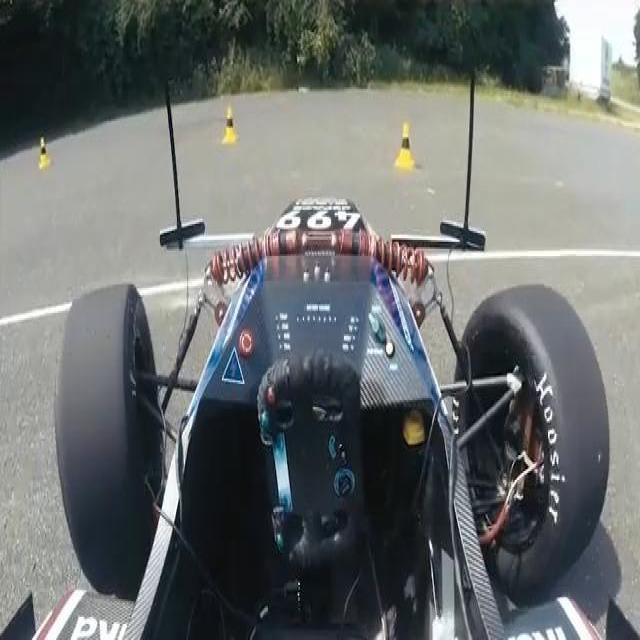yellow_cone: (395, 117, 422, 186), (225, 102, 241, 142), (35, 137, 52, 165)
